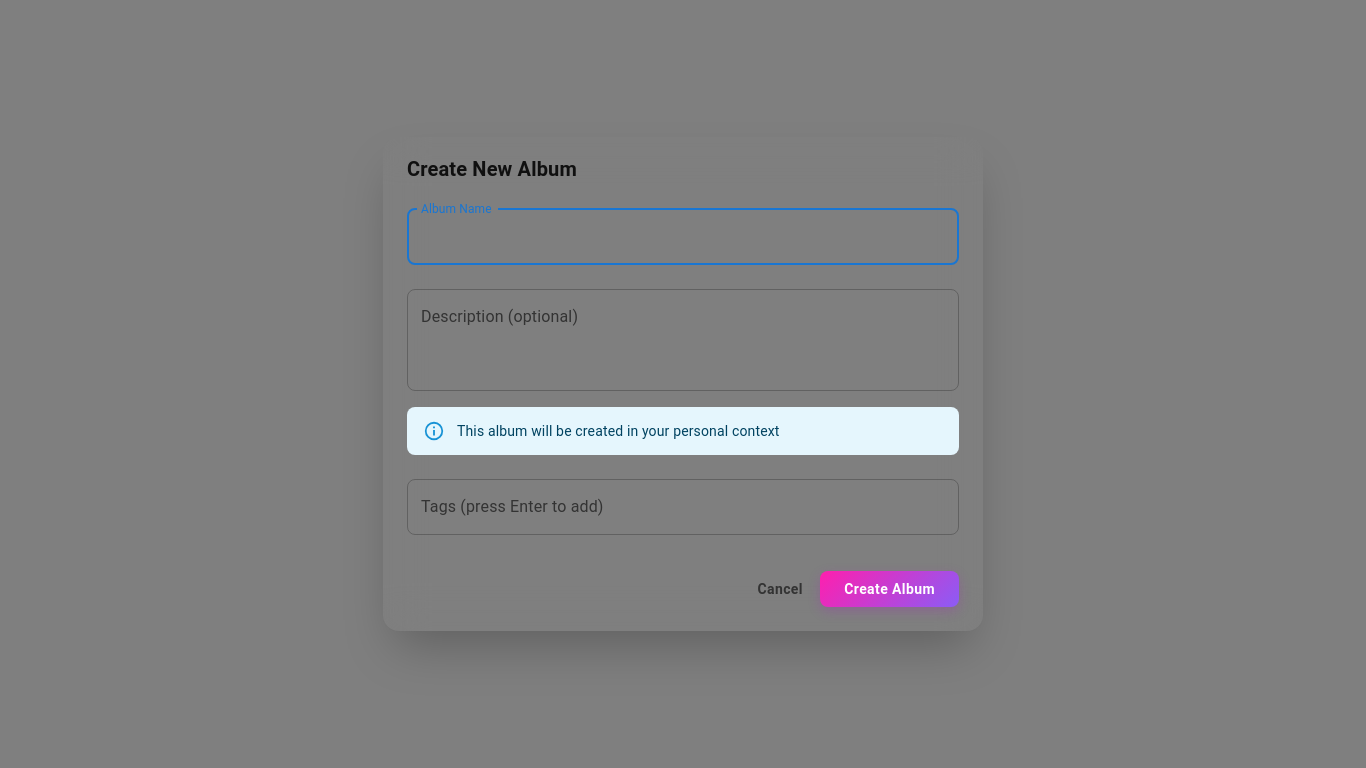
Test: shows a validation error and does not create when the name is blank
Click the button "Create Album" at (890, 589), box [820, 571, 959, 607]
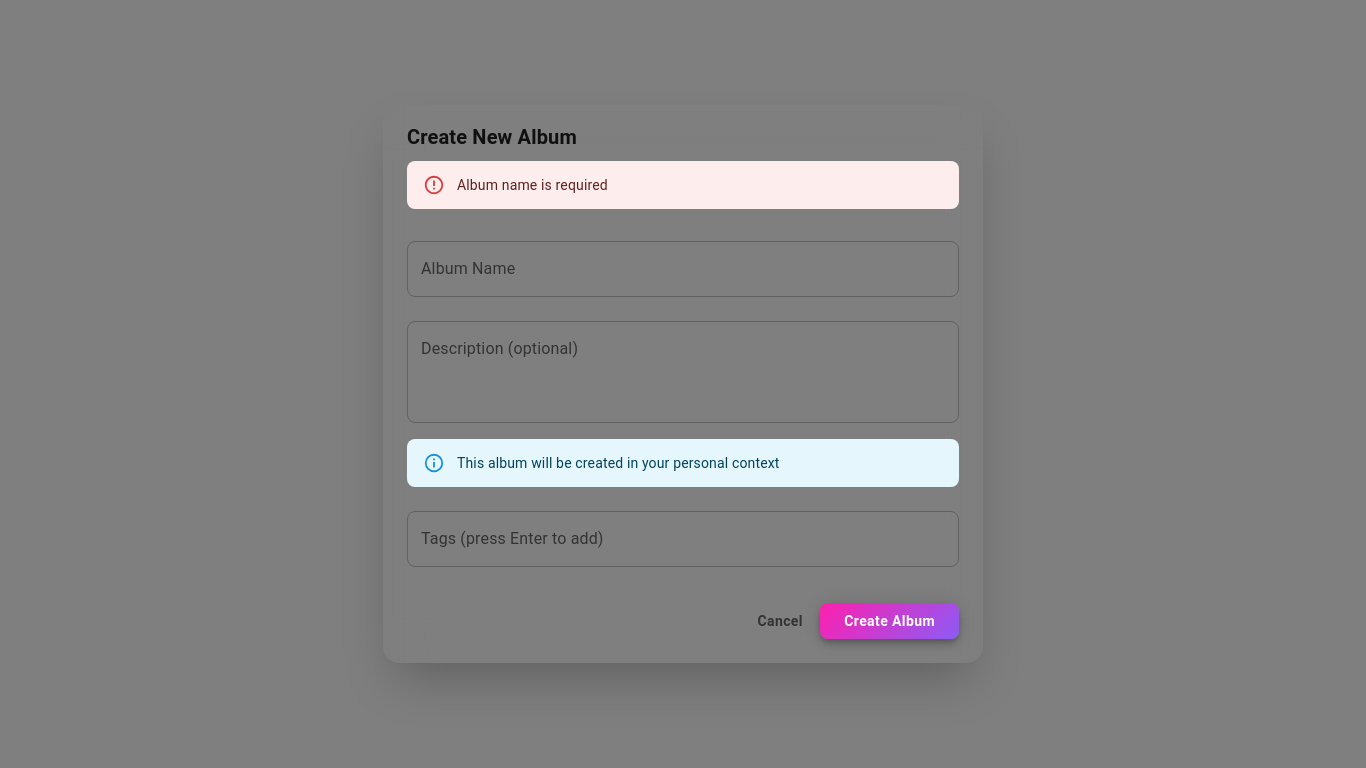
Now the text "Album name is required" is shown, box [457, 177, 608, 193]
